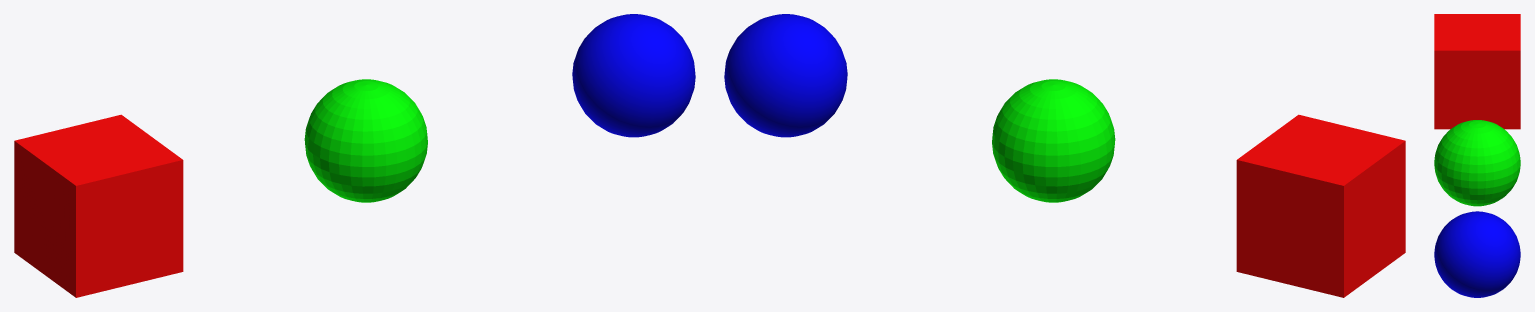
The model's file is simplescene.fbx.
3 views of the same model, side by side, from view 1: azimuth 30°, elevation 25°; view 2: azimuth 150°, elevation 25°; view 3: azimuth 270°, elevation 25° (orthographic). The views are drawn at different scales.
Visible parts, largest first — view 1: Cube, SmoothSphere, FlatSphere; view 2: Cube, SmoothSphere, FlatSphere; view 3: Cube, SmoothSphere, FlatSphere.
Part boxes in pixels (box(x1,y1,x2,y2)): Cube: box(14, 114, 183, 297); SmoothSphere: box(572, 14, 695, 137); FlatSphere: box(304, 79, 427, 202); Cube: box(1236, 114, 1405, 297); SmoothSphere: box(724, 14, 847, 137); FlatSphere: box(992, 79, 1115, 202); Cube: box(1434, 14, 1520, 129); SmoothSphere: box(1434, 211, 1520, 297); FlatSphere: box(1434, 120, 1520, 206).
Bounding box in the file's own units: 12 × 2 × 2.
